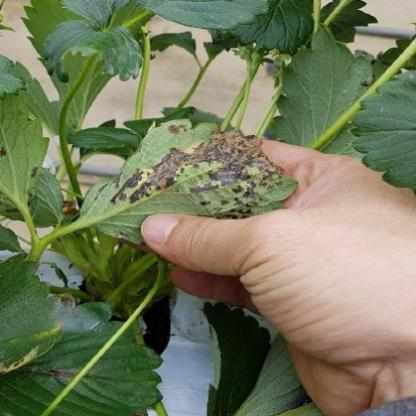Strawberry_Angular_LeafSpot: (77, 118, 301, 246), (0, 89, 51, 218)
